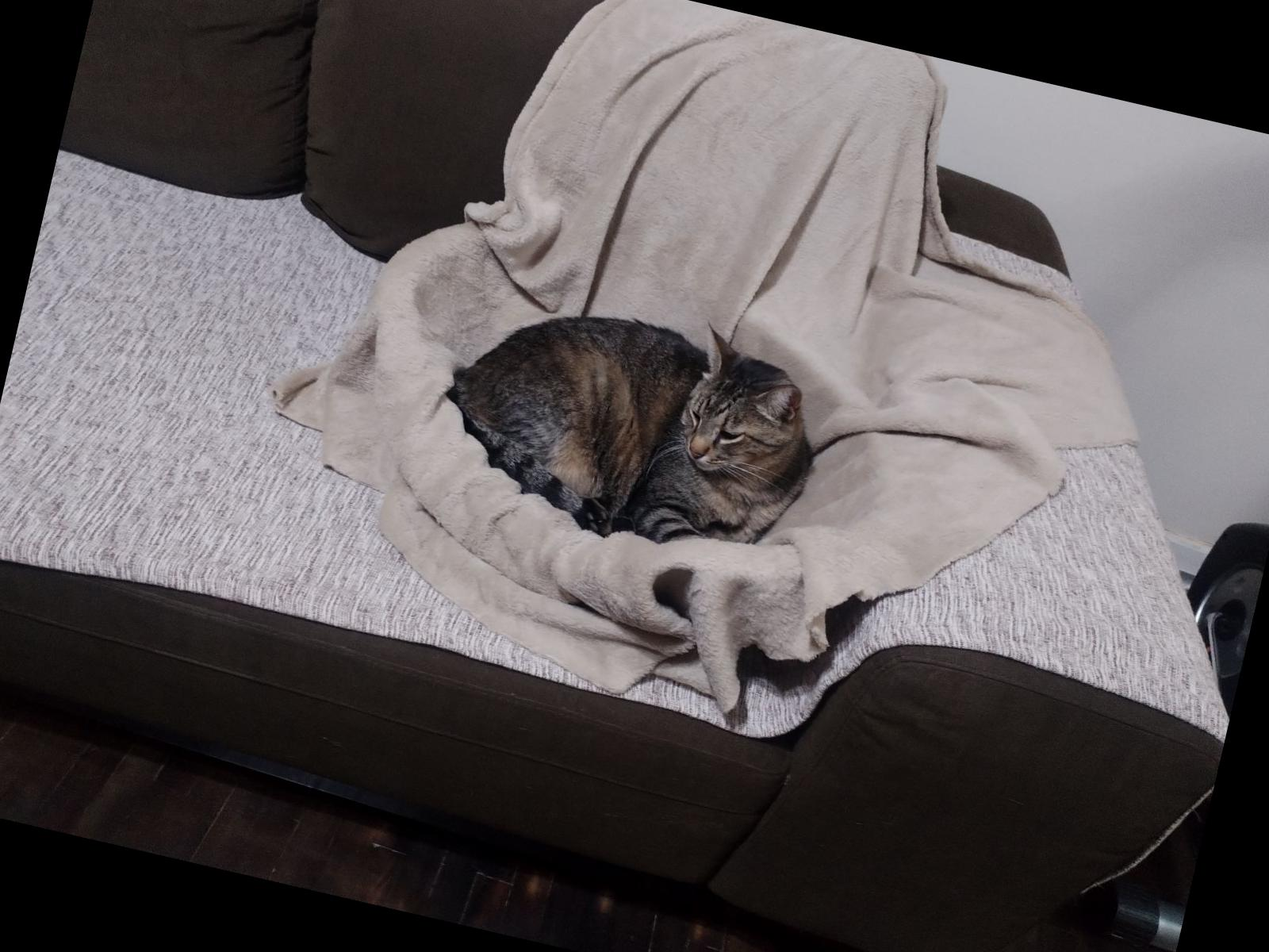macka: (421, 269, 836, 582)
